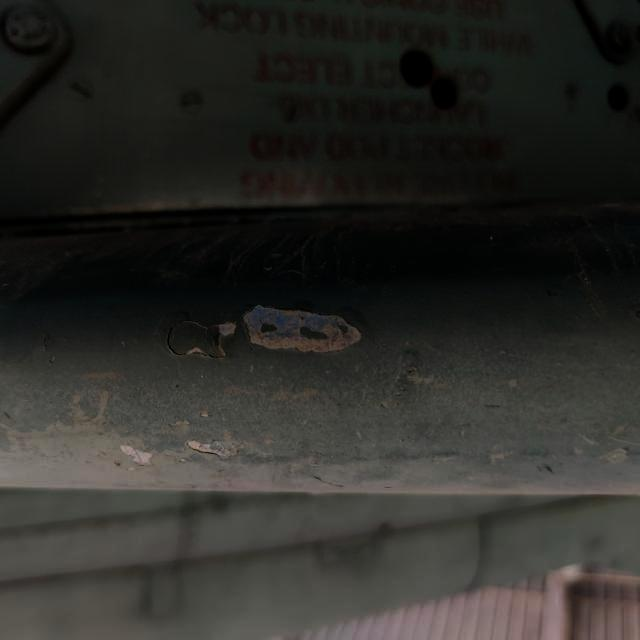paint-off: (233, 295, 369, 367)
